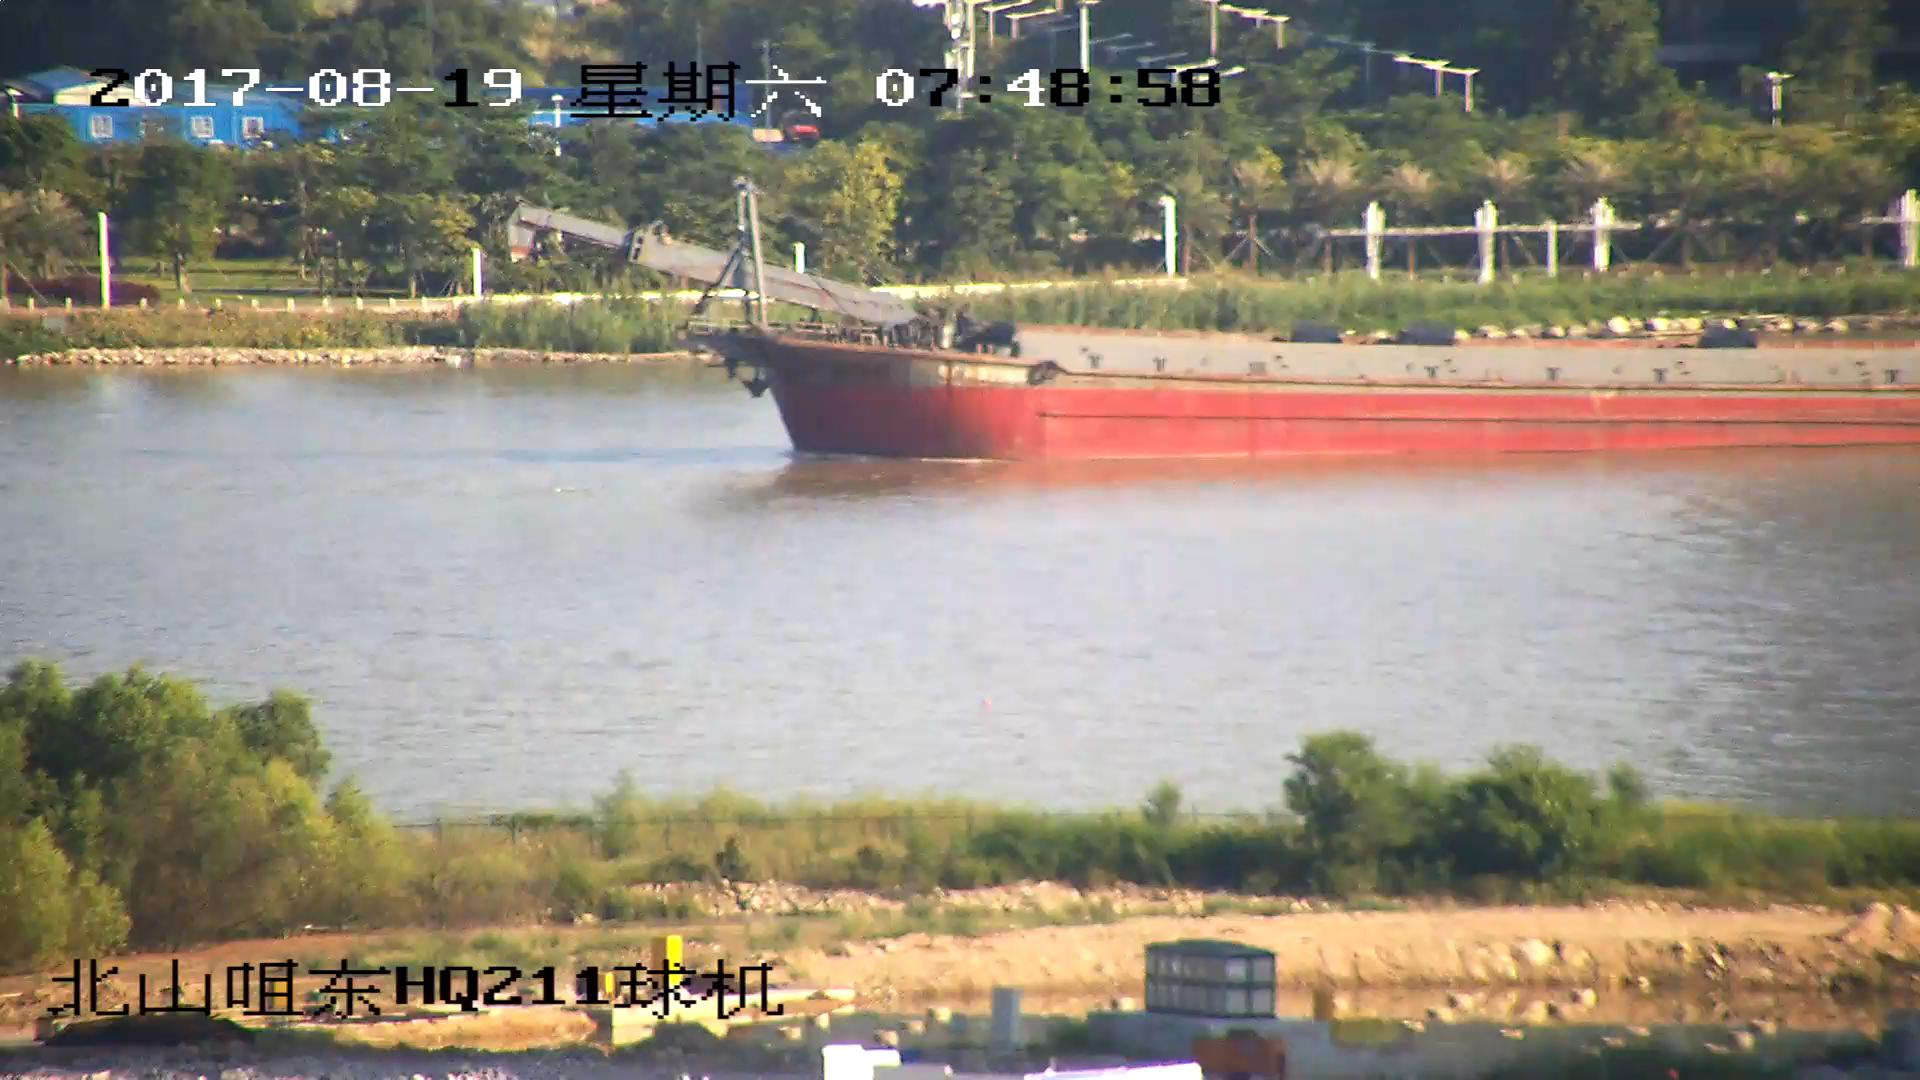bulk cargo carrier: (506, 185, 1920, 457)
